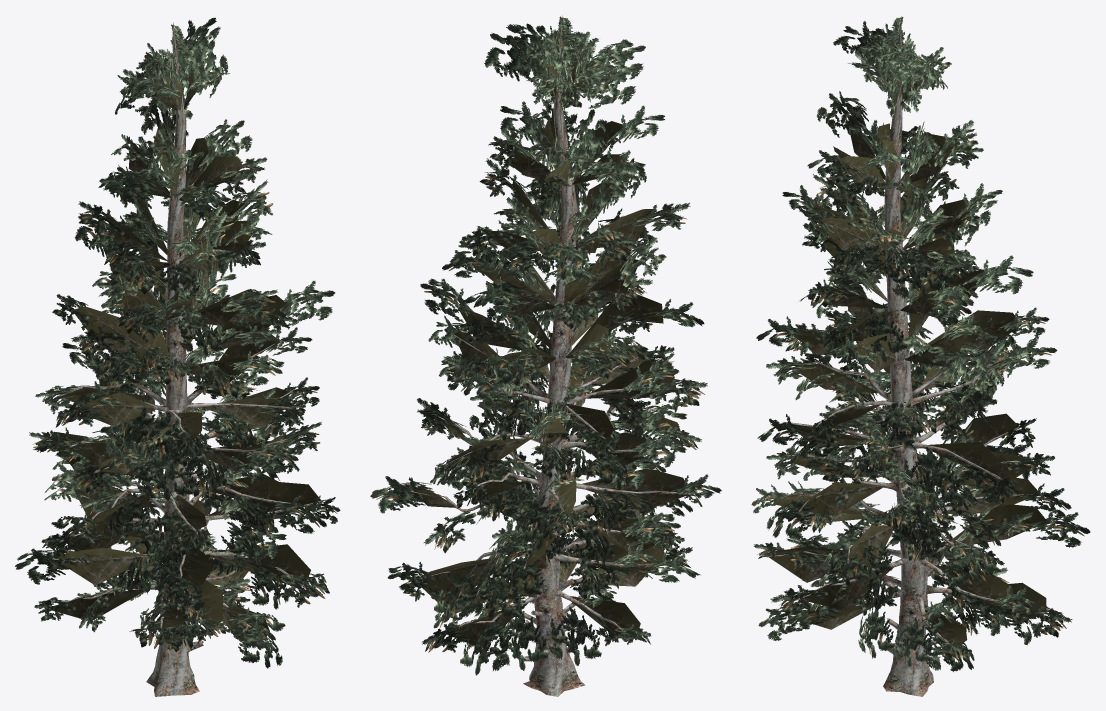
File: BlueSpruce_4.fbx
3 views of the same model, side by side, from view 1: azimuth 30°, elevation 25°; view 2: azimuth 150°, elevation 25°; view 3: azimuth 270°, elevation 25° (orthographic).
Parts seen in each view (by area): view 1: BlueSpruce_4; view 2: BlueSpruce_4; view 3: BlueSpruce_4.
Boxes of the visible parts, box(x1,y1,x2,y2) form: BlueSpruce_4: box(15, 17, 340, 696); BlueSpruce_4: box(370, 15, 721, 696); BlueSpruce_4: box(751, 16, 1090, 696).
Bounding box in the file's own units: 13.56 × 28.8 × 13.33.
